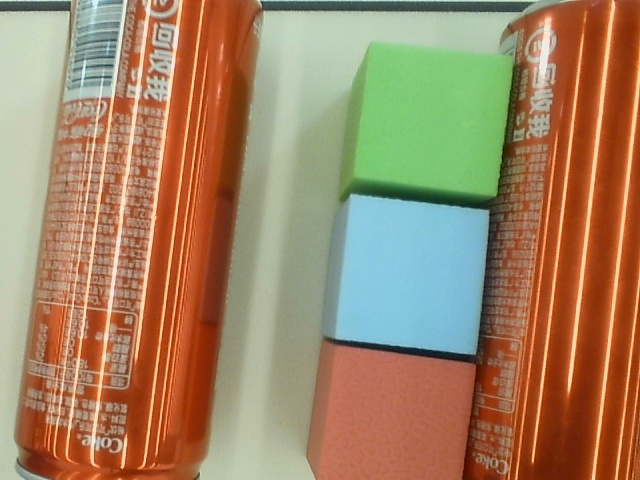bluecube: (324, 193, 492, 361)
cola: (6, 1, 269, 480), (462, 1, 640, 480)
greencube: (334, 45, 514, 200)
redcube: (305, 341, 477, 480)
